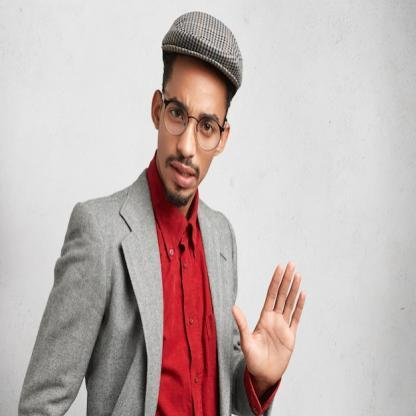stop: (229, 255, 308, 386)
